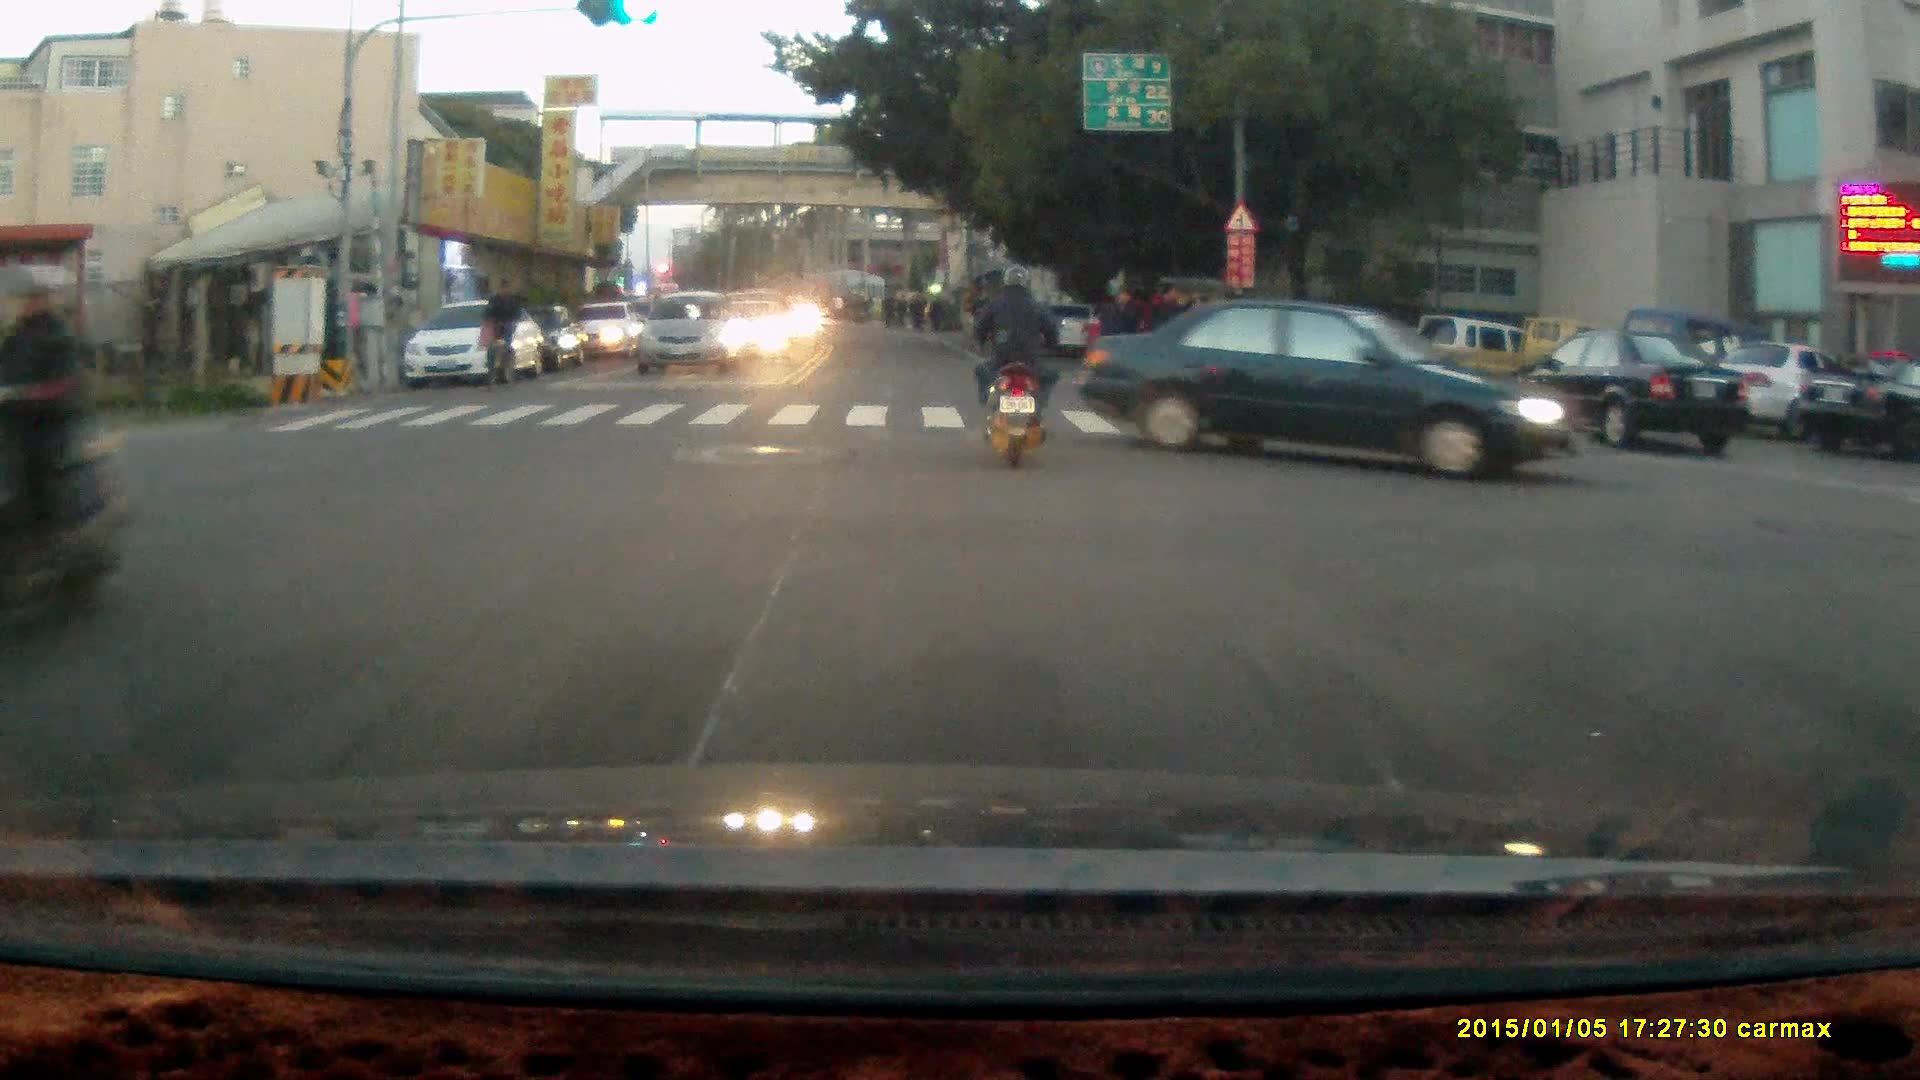pedestrian: (1150, 276, 1183, 374), (1104, 285, 1137, 379)
rider: (0, 259, 127, 651), (969, 262, 1063, 466), (477, 273, 520, 387)
vehicle: (1068, 288, 1584, 482), (1512, 327, 1751, 453), (1415, 317, 1640, 412), (1694, 337, 1883, 441), (402, 293, 551, 387), (1793, 352, 1920, 459), (633, 290, 749, 377)
